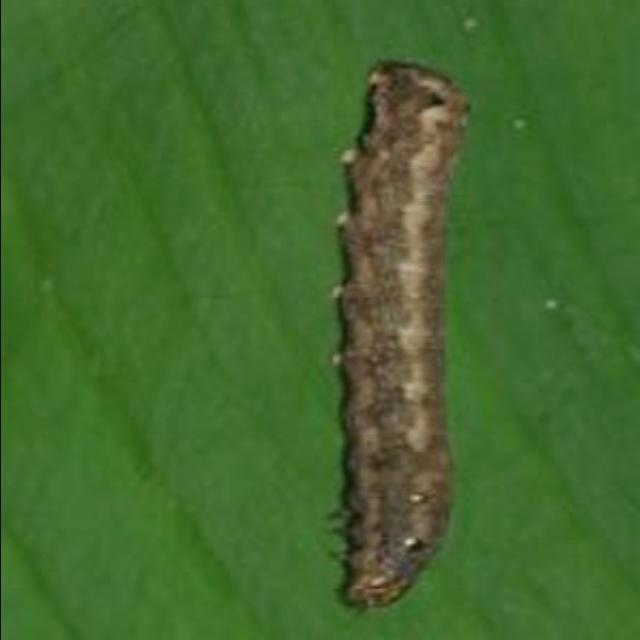Tobacco cutworm: (261, 54, 509, 622)
